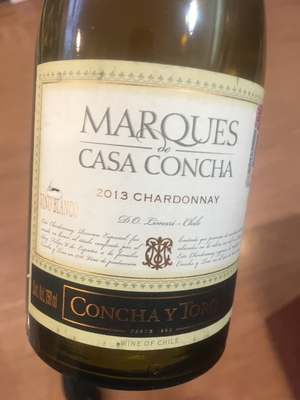marques de casa concha chardonnay: (21, 13, 267, 382)
